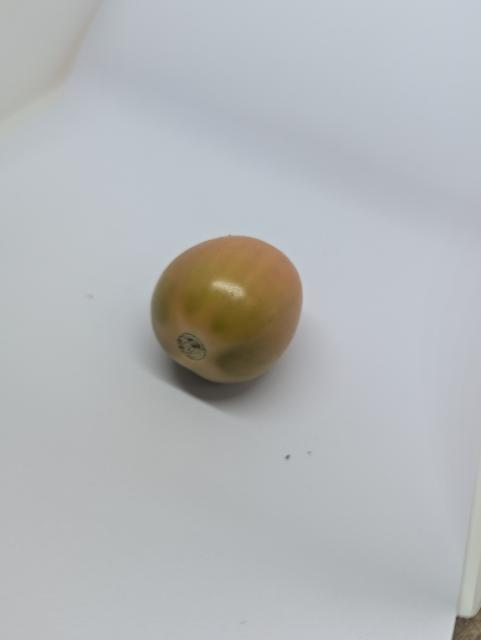turning: (141, 224, 316, 393)
